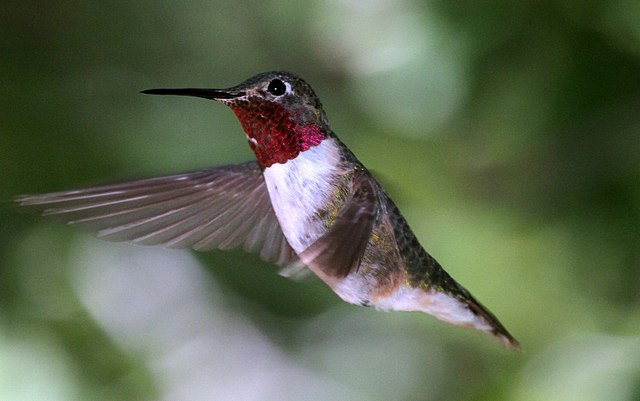selasphorus platycercus: (10, 72, 525, 351)
